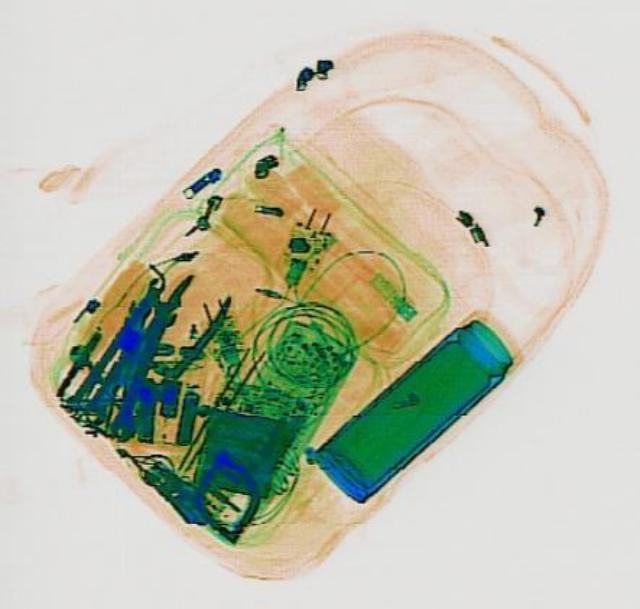Wrench: (102, 295, 178, 442)
